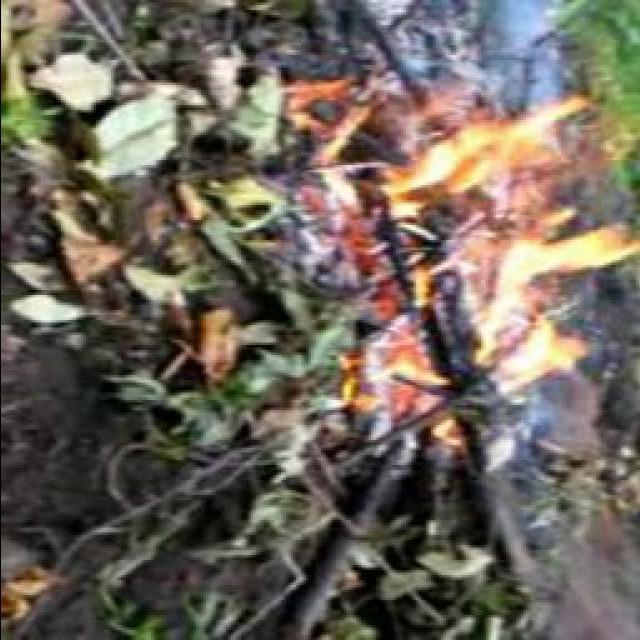Fire: (362, 70, 640, 210), (436, 222, 637, 396)
